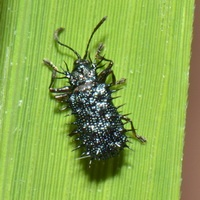insect: (43, 16, 145, 165)
